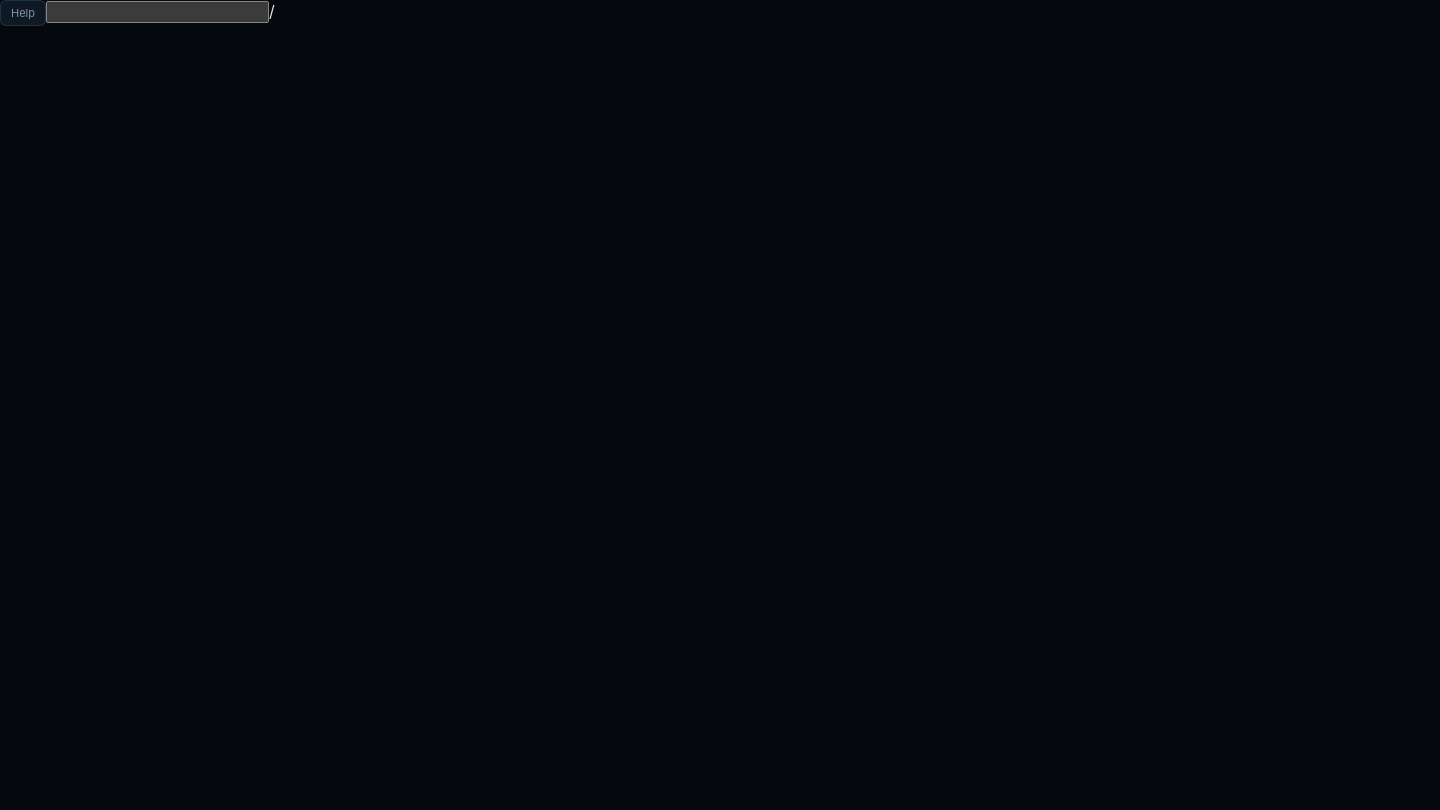
it: searchable operator guide › opens with ? outside editors, focuses search, and navigates to a relevant page
This screenshot has width=1440, height=810.
Press ?
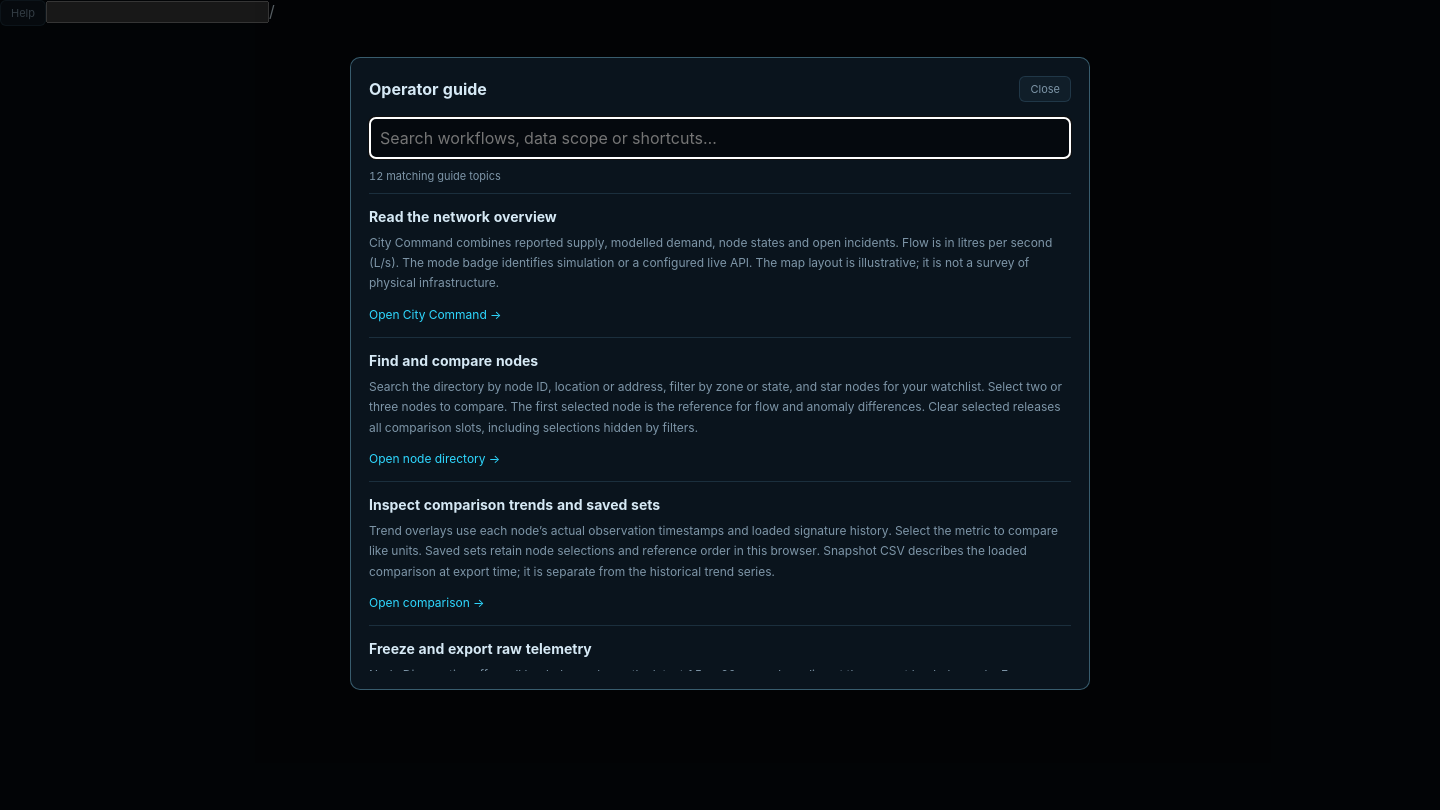
Type "structural topology" into the search field named "Search operator guide" at (720, 138), box [369,117,1071,159]
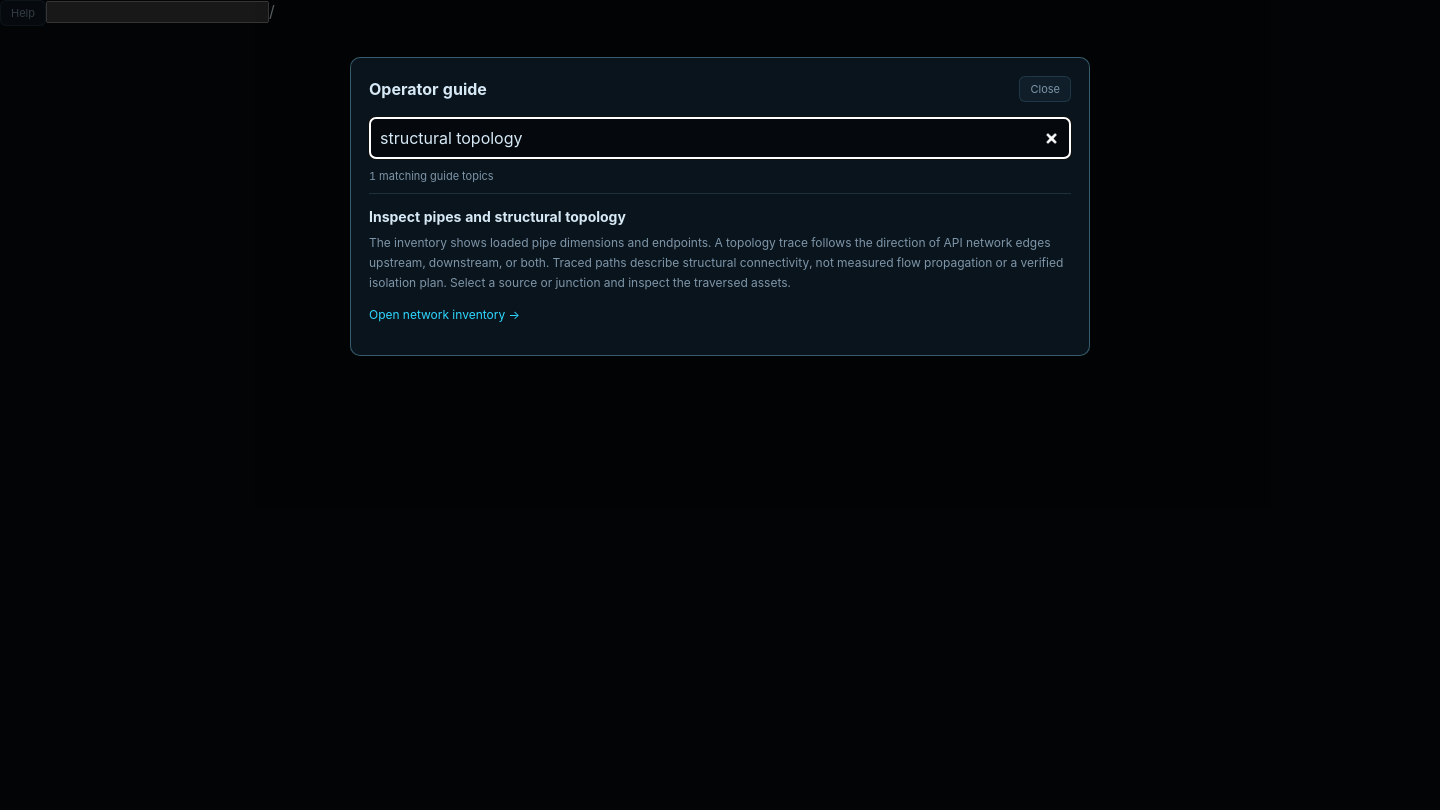
Click the link "Open network inventory →" at (437, 314), box [369,307,520,322]
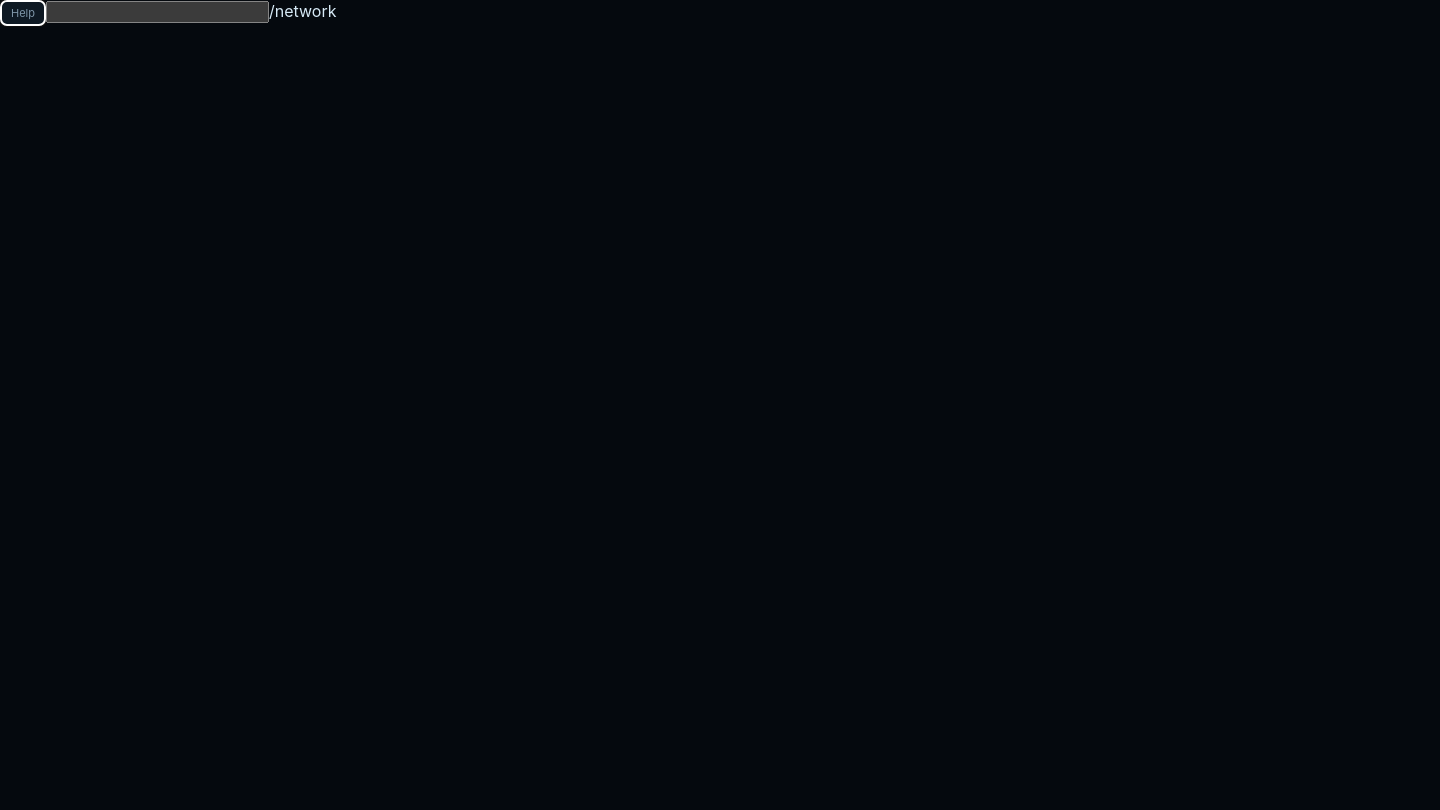
Expected: the text with test id "guide-location" reads "/network", [269,1,336,21]
